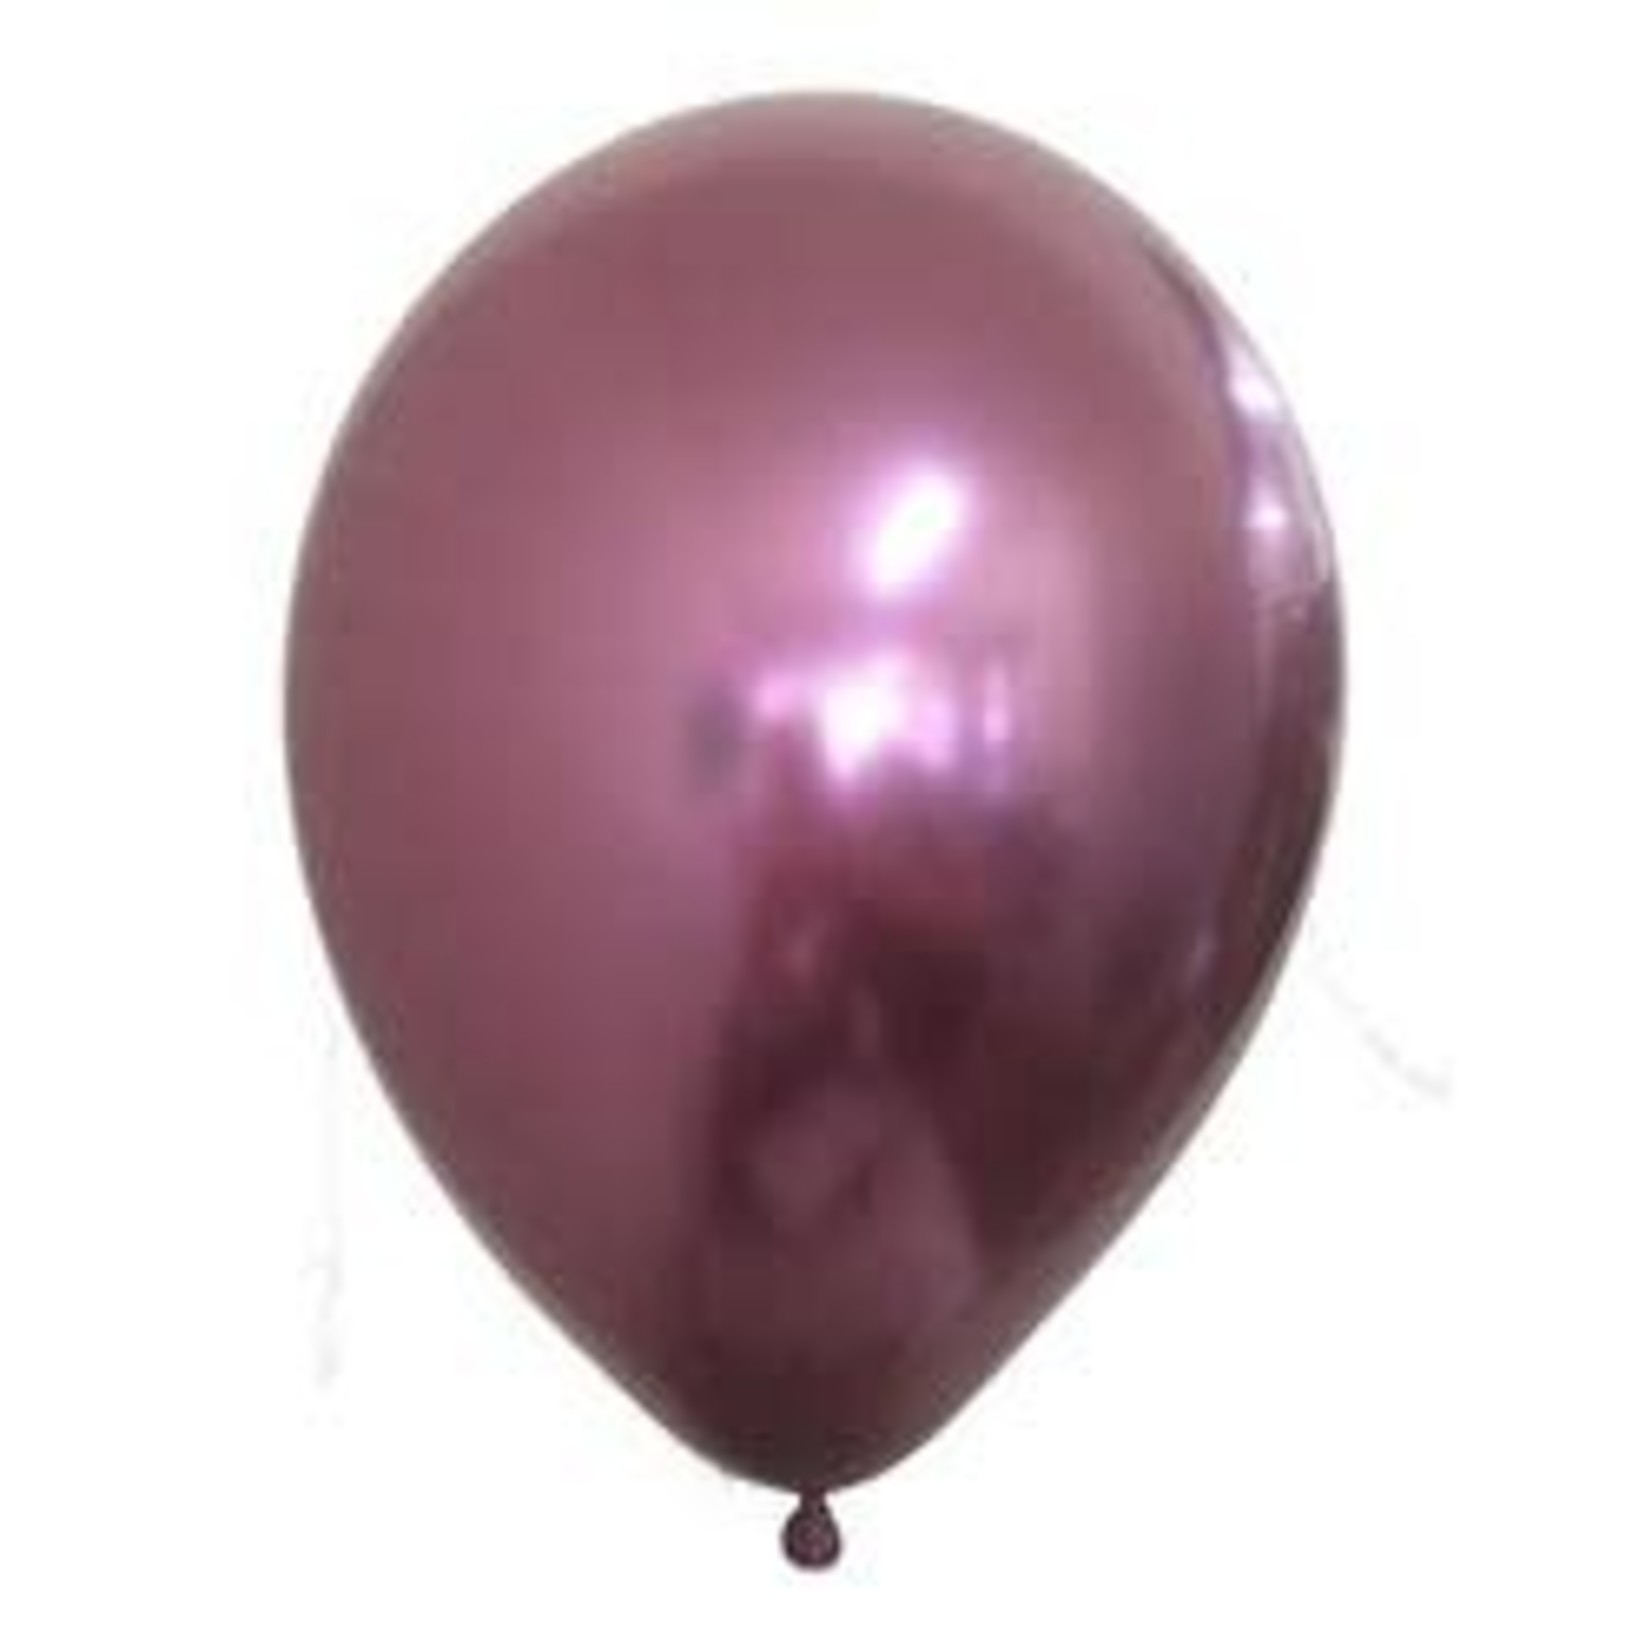Balloon: (281, 85, 1346, 1492)
